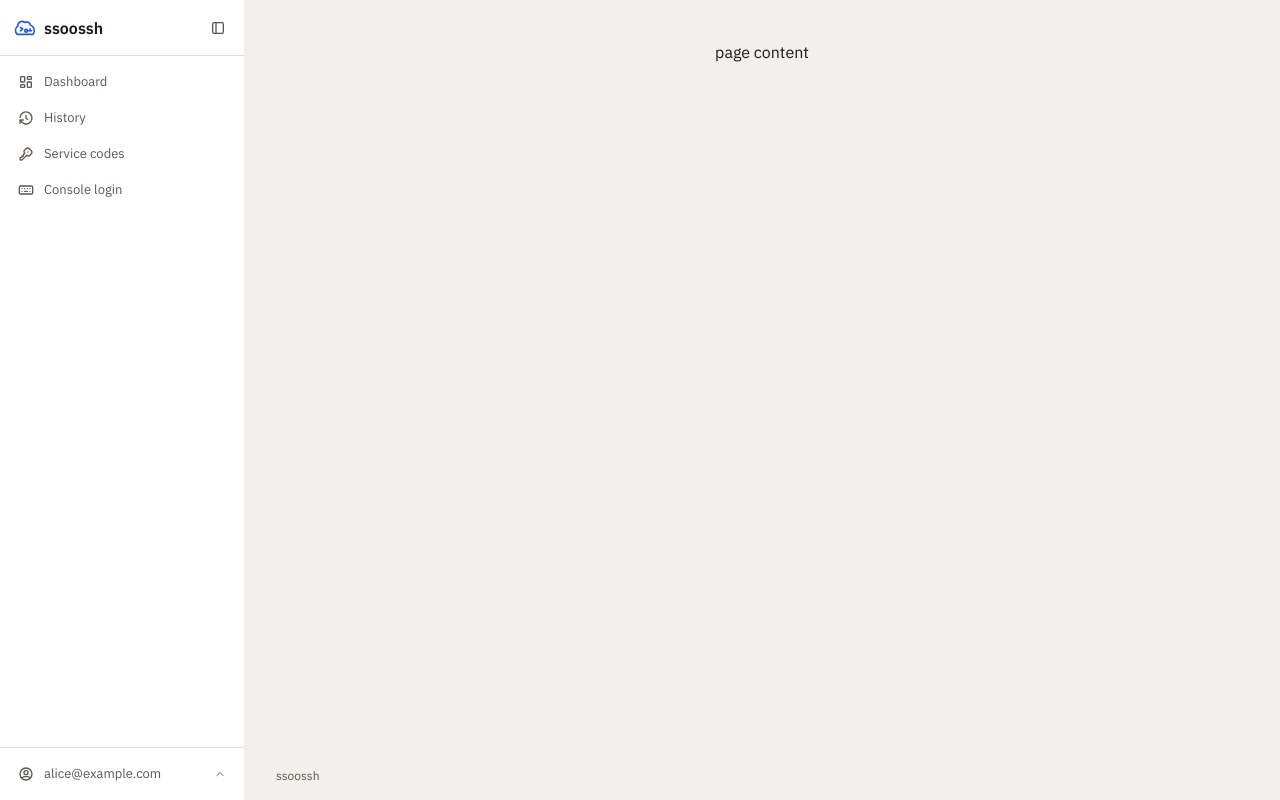
Test: root layout › should say a failed sign-out left the session active
Click the button with test id "rail-user-trigger" at [122, 774], box 8,756 -> 236,792
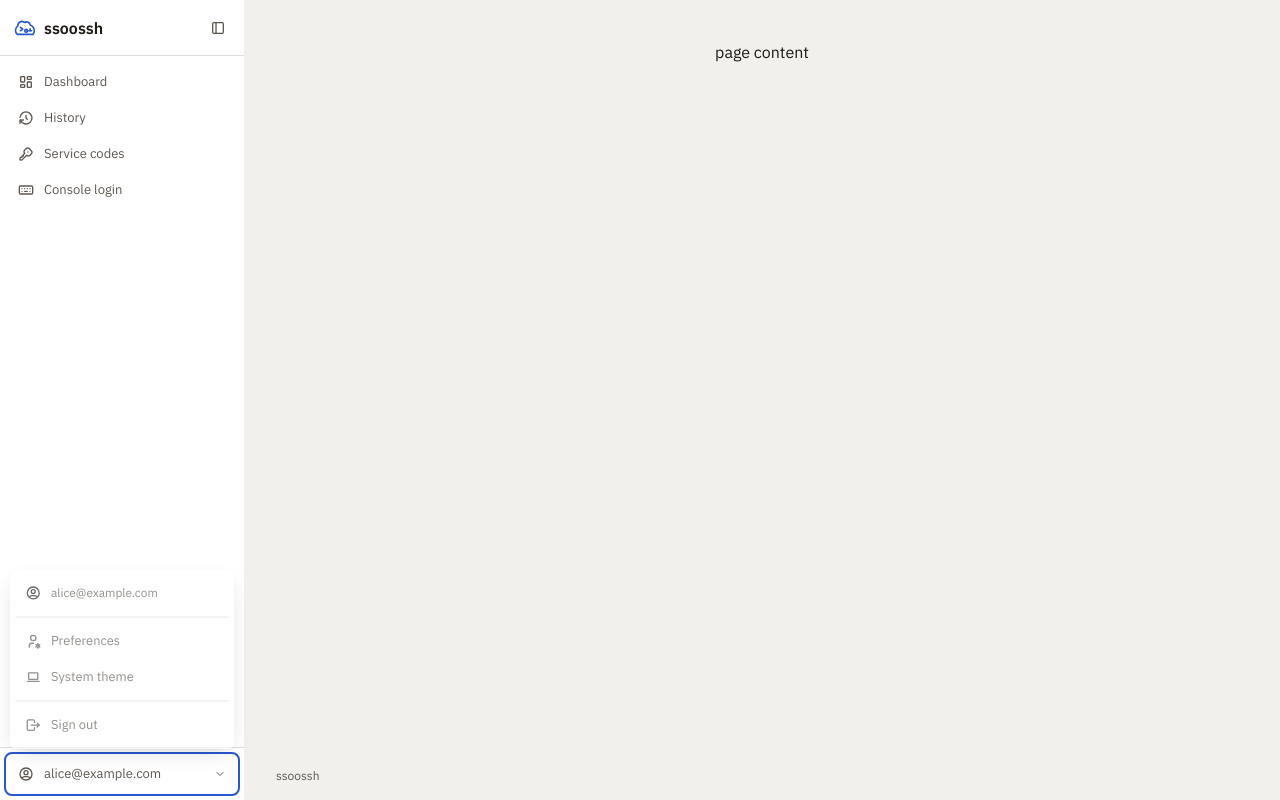
Click the button with test id "rail-sign-out" at [122, 725], box 16,707 -> 229,743
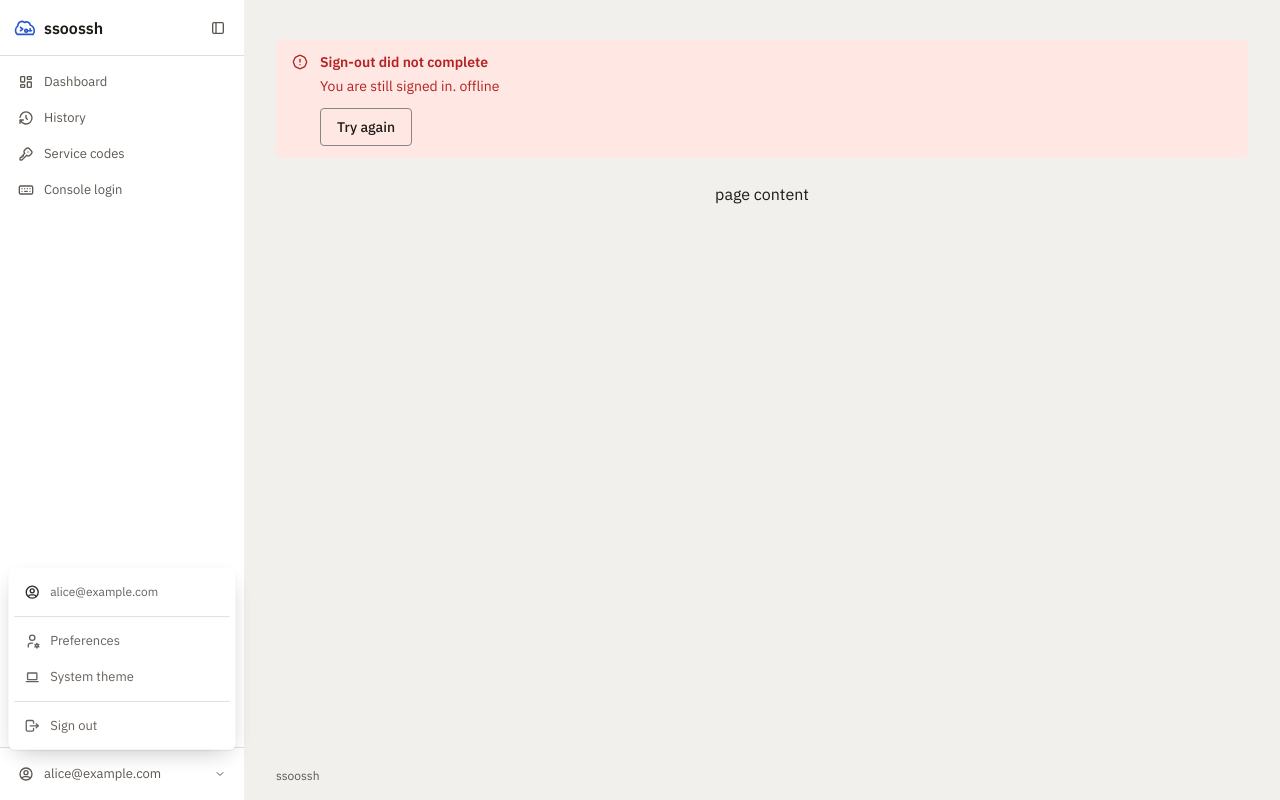
Result: the message with test id "signout-error" shows "You are still signed in." at 320,77 -> 499,95
